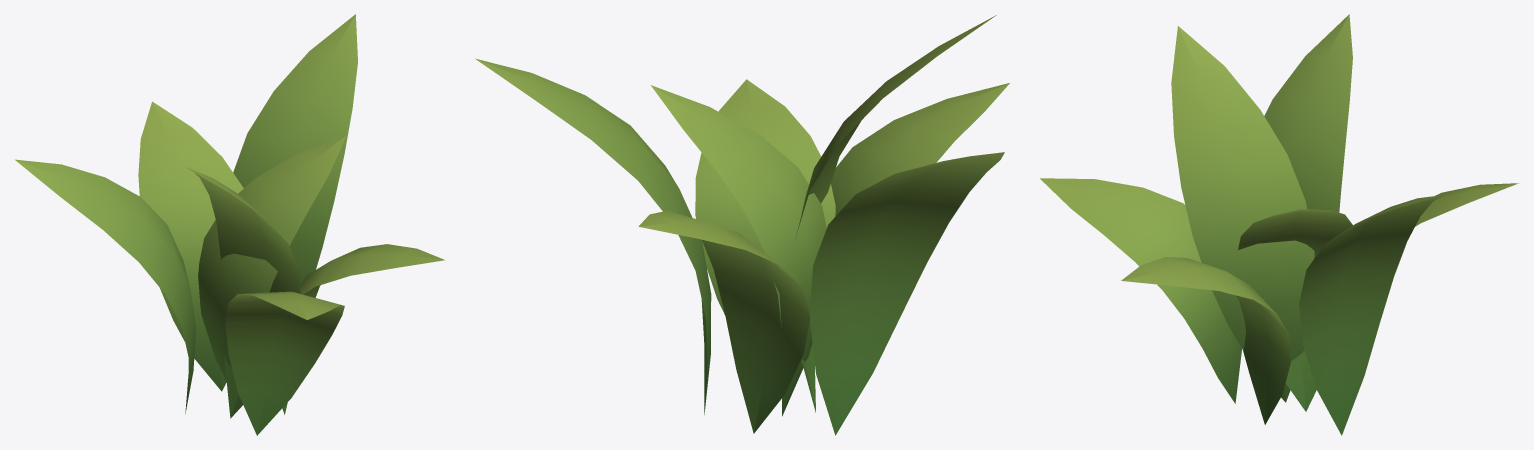
File: meadow_tuft.glb
3 renders of one model, left to right at view 1: azimuth 30°, elevation 25°; view 2: azimuth 150°, elevation 25°; view 3: azimuth 270°, elevation 25°, orthographic. The views are drawn at different scales.
Parts seen in each view (by area): view 1: Grass; view 2: Grass; view 3: Grass.
Part boxes in pixels (x1,y1,x2,y2): Grass: (15,14,445,435); Grass: (475,15,1009,435); Grass: (1040,14,1519,435).
Size of the model in its own units: 0.5038 by 0.3892 by 0.5172.
